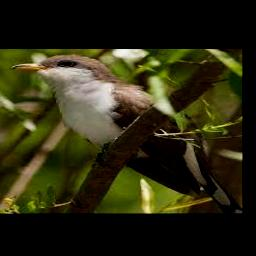Cuckoo: (9, 54, 241, 212)
